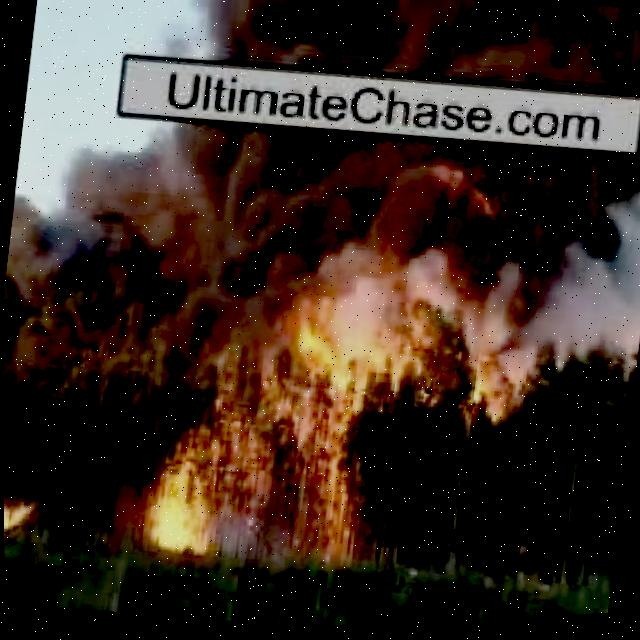Fire: (267, 310, 388, 577), (135, 431, 228, 567), (445, 300, 532, 417), (3, 491, 37, 537)
Smoke: (2, 85, 640, 365), (166, 0, 640, 130)
